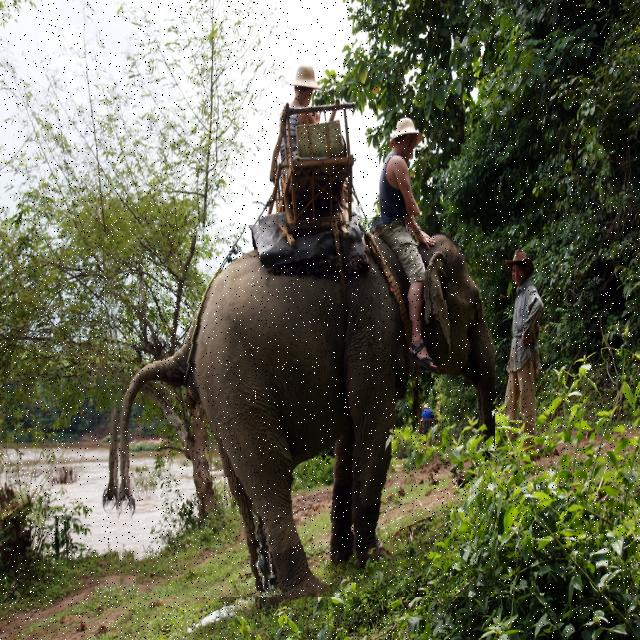elephant: (107, 217, 495, 597)
